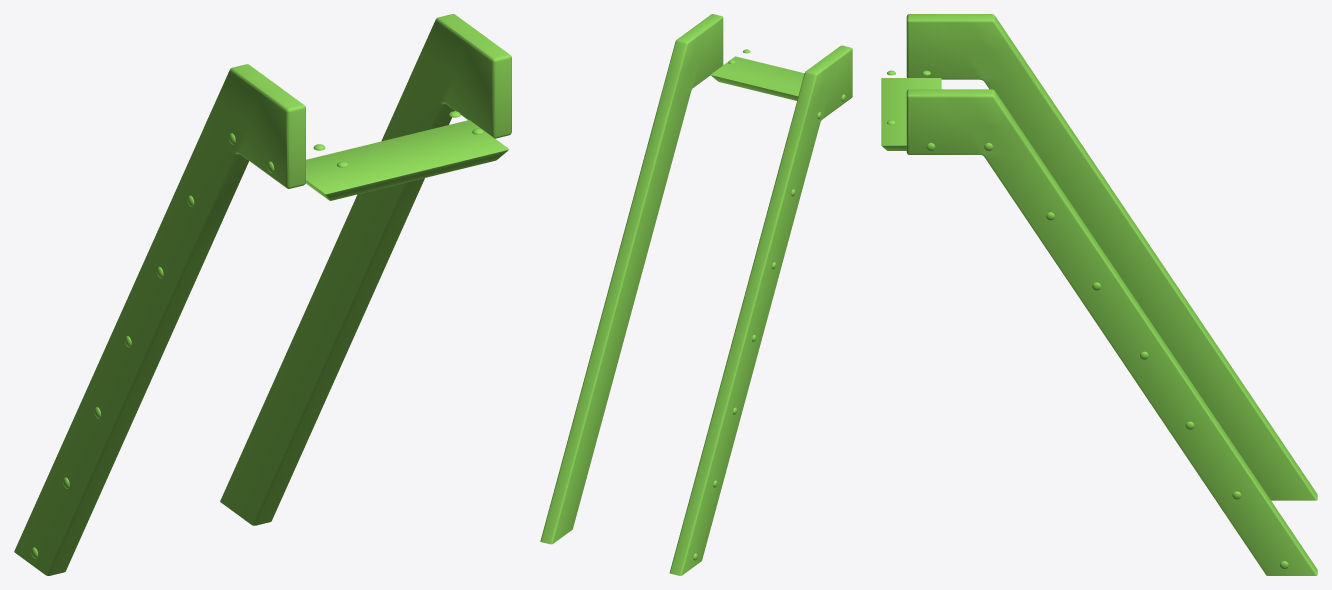
The picture shows the model from 3 angles, left to right: view 1: azimuth 30°, elevation 25°; view 2: azimuth 150°, elevation 25°; view 3: azimuth 270°, elevation 25°; orthographic projection. The views are drawn at different scales.
Visible parts, largest first — view 1: Slide; view 2: Slide; view 3: Slide.
Part boxes in pixels (left/top/right/bottom): Slide: left=14, top=14, right=511, bottom=575; Slide: left=540, top=14, right=852, bottom=575; Slide: left=881, top=14, right=1317, bottom=575.
Size of the model in its own units: 64.92 by 172 by 142.
